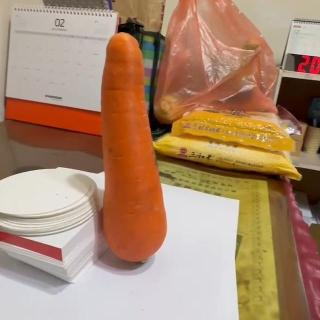carrot: (100, 30, 168, 264)
